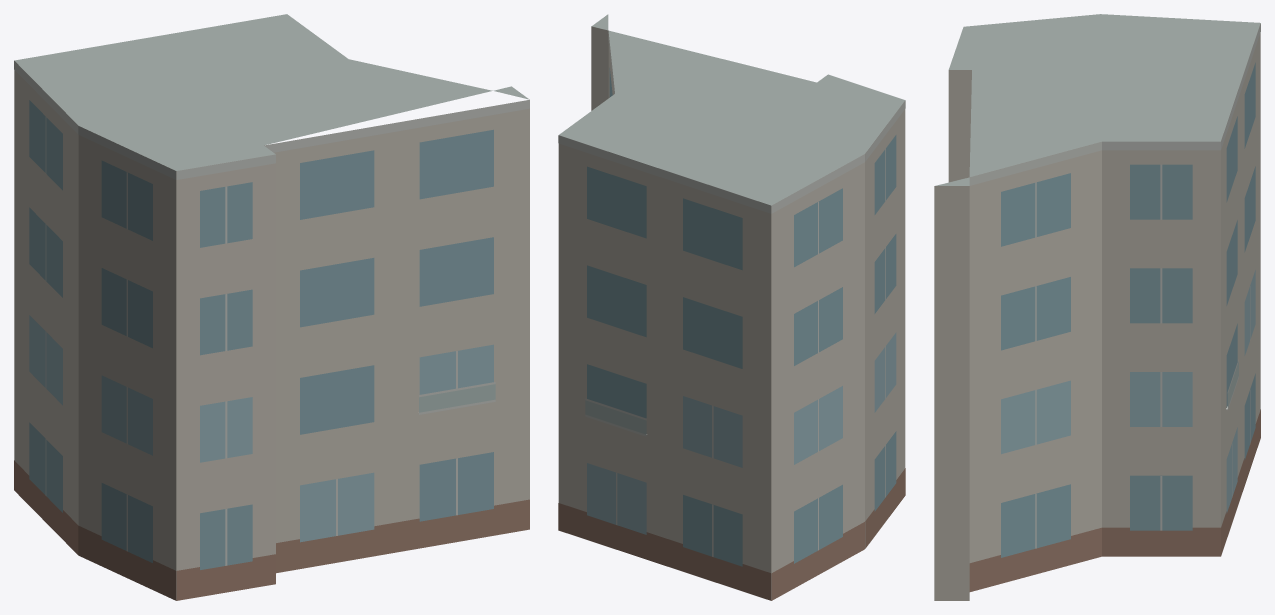
Rendered from survey-upis-32477878.glb.
3 renders of one model, left to right at view 1: azimuth 30°, elevation 25°; view 2: azimuth 150°, elevation 25°; view 3: azimuth 270°, elevation 25°, orthographic. The views are drawn at different scales.
Parts seen in each view (by area): view 1: survey-upis-32477878.tmp; view 2: survey-upis-32477878.tmp; view 3: survey-upis-32477878.tmp.
Boxes of the visible parts, box(x1,y1,x2,y2) form: survey-upis-32477878.tmp: box(14, 14, 529, 600); survey-upis-32477878.tmp: box(558, 14, 905, 600); survey-upis-32477878.tmp: box(934, 14, 1260, 600).
Bounding box in the file's own units: 10.41 × 11.7 × 8.36.
